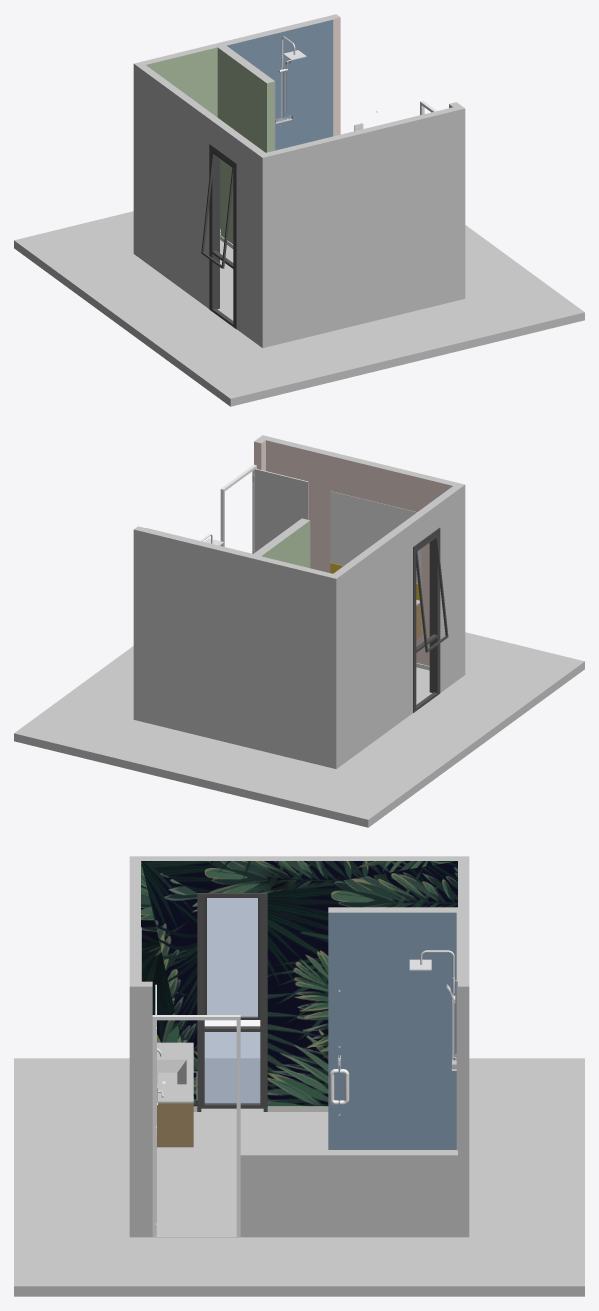
File: Bathroom.glb
3 renders of one model, top to bottom at view 1: azimuth 30°, elevation 25°; view 2: azimuth 150°, elevation 25°; view 3: azimuth 270°, elevation 25°, orthographic. The views are drawn at different scales.
Parts seen in each view (by area): view 1: Mesh37-FrontColor, Model, Group12, Group11, Group13, Group14, Mesh37-Color_B01, Mesh19-RAL_9011___Graphite_black, Mesh16-RAL_9011___Graphite_black, Group16; view 2: Mesh37-FrontColor, Model, Mesh37-Color_B01, Group22, Mesh35-FrontColor, Group13, Group11, Mesh19-RAL_9011___Graphite_black, Mesh16-RAL_9011___Graphite_black, Group14, Group30, Group16; view 3: Model, Mesh37-FrontColor, Group18, Group12, Group14, Mesh19-Translucent_Glass_Blue, Mesh16-Translucent_Glass_Blue, Group30, Group13, Group21, Group23, Group16 (+4 smaller).
Boxes of the visible parts, <box> form: Mesh37-FrontColor: <box>133,14,465,347</box>; Model: <box>14,211,584,406</box>; Group12: <box>227,20,332,150</box>; Group11: <box>146,47,274,244</box>; Group13: <box>209,144,236,329</box>; Group14: <box>134,240,465,347</box>; Mesh37-Color_B01: <box>333,17,452,135</box>; Mesh19-RAL_9011___Graphite_black: <box>201,151,233,268</box>; Mesh16-RAL_9011___Graphite_black: <box>211,148,234,267</box>; Group16: <box>211,250,234,327</box>; Mesh37-FrontColor: <box>133,435,465,768</box>; Model: <box>14,632,584,827</box>; Mesh37-Color_B01: <box>254,440,452,665</box>; Group22: <box>330,491,421,584</box>; Mesh35-FrontColor: <box>255,469,307,552</box>; Group13: <box>413,527,440,712</box>; Group11: <box>261,520,310,567</box>; Mesh19-RAL_9011___Graphite_black: <box>416,535,448,652</box>; Mesh16-RAL_9011___Graphite_black: <box>415,532,438,650</box>; Group14: <box>133,667,464,768</box>; Group30: <box>220,464,256,553</box>; Group16: <box>415,634,438,711</box>; Model: <box>14,1058,584,1296</box>; Mesh37-FrontColor: <box>129,856,469,1236</box>; Group18: <box>141,861,457,1106</box>; Group12: <box>328,912,456,1149</box>; Group14: <box>130,1108,468,1237</box>; Mesh19-Translucent_Glass_Blue: <box>207,898,257,1017</box>; Mesh16-Translucent_Glass_Blue: <box>204,1032,260,1103</box>; Group30: <box>152,1015,240,1236</box>; Group13: <box>197,893,267,1111</box>; Group21: <box>157,1042,193,1103</box>; Group23: <box>157,1103,192,1147</box>; Group16: <box>201,1026,263,1108</box>.
Size of what is drawn, in the model's own units: 158 by 84.21 by 167.
34 materials, 1 textured.
